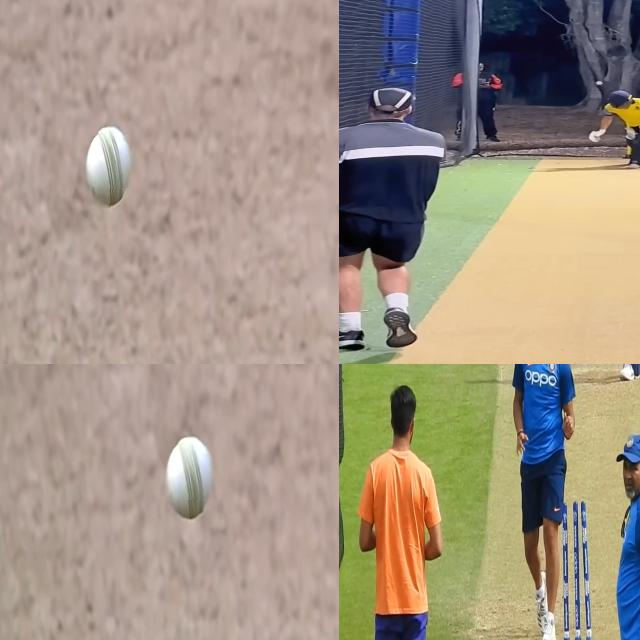Cricket ball: (84, 122, 134, 211), (164, 433, 214, 522), (596, 81, 603, 85)
Stumps: (561, 499, 593, 640)
